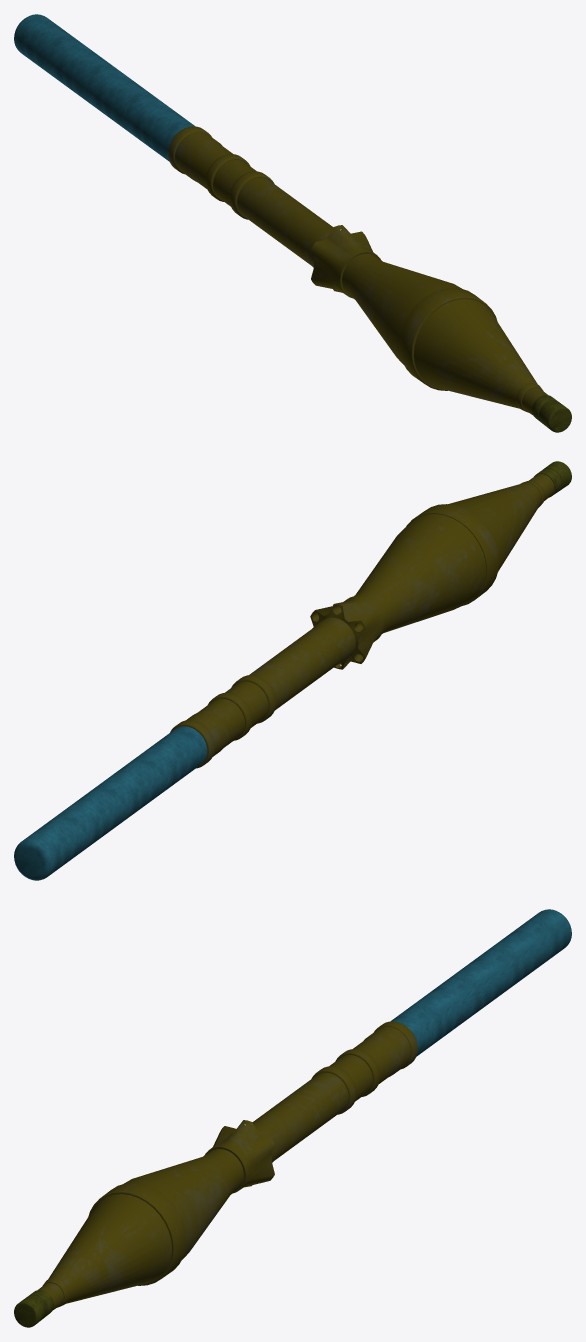
Rendered from rpg snarad.fbx.
3 views of the same model, one above another, from view 1: azimuth 30°, elevation 25°; view 2: azimuth 150°, elevation 25°; view 3: azimuth 330°, elevation 25° (orthographic).
Visible parts, largest first — view 1: Cylinder; view 2: Cylinder; view 3: Cylinder.
Part boxes in pixels (bbox=[...]): Cylinder: bbox=[14, 14, 571, 432]; Cylinder: bbox=[14, 461, 571, 880]; Cylinder: bbox=[14, 909, 571, 1327].
Bounding box in the file's own units: 0.4534 × 4.71 × 0.4534.
